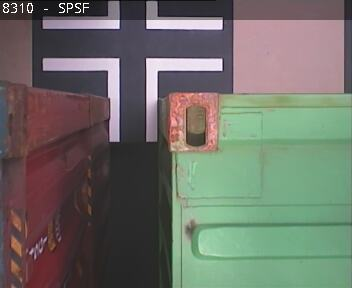groundmarker_1: (40, 55, 223, 141), (41, 1, 222, 30)
